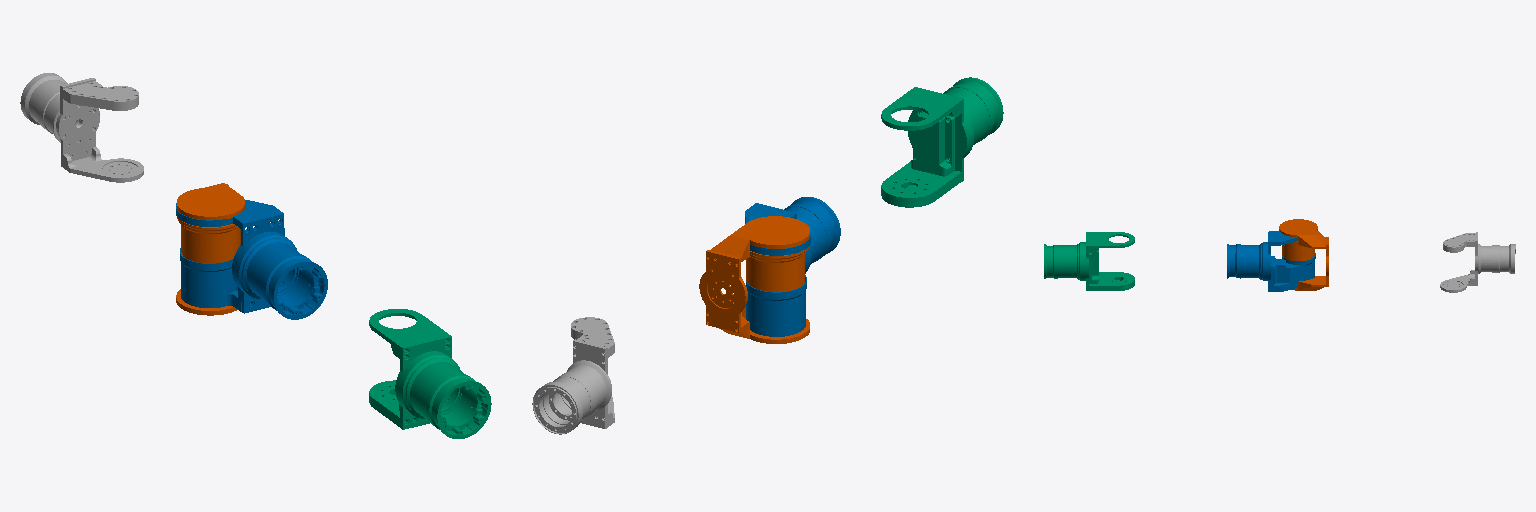
The robot description file, URDF, robot "dymaflight":
<?xml version="1.0" ?>
<robot name="dymaflight">
    
    <link name="ground"/>
    <link name="dyma_base_link">
    </link>

    <joint name="world_rotate" type="fixed">
        <parent link="ground"/>
        <child link="dyma_base_link"/>
        <origin xyz="0 0 0" rpy="-1.5708 0 0"/>
    </joint>

    <link name="shld_yaw">
        <visual>
            <origin xyz="0 0 0" rpy="0 0 0" />
            <geometry>
               <mesh filename="package://nbv/urdf/meshes/shld_yaw.stl" scale="0.001 0.001 0.001"/>
            </geometry>
        </visual>
        <collision>
            <origin xyz="0 0 0" rpy="0 0 0" />
            <geometry>
               <mesh filename="package://nbv/urdf/meshes/shld_yaw.stl" scale="0.001 0.001 0.001"/>
            </geometry>
        </collision>
    </link>

    <joint name="joint1" type="revolute">
        <parent link="dyma_base_link" />
        <child link="shld_yaw" />
        <origin xyz="0 0 0.18161" rpy="0 0 0" />
        <axis xyz="0 0 1" />
        <limit effort="300" velocity="0.25" lower="-3.14159" upper="3.14159" />
    </joint>

    <link name="shld_ptch">
        <visual>
            <origin xyz="0 0 0" rpy="0 0 0" />
            <geometry>
               <mesh filename="package://nbv/urdf/meshes/shld_ptch.stl" scale="0.001 0.001 0.001"/>
            </geometry>
        </visual>
        <collision>
            <origin xyz="0 0 0" rpy="0 0 0" />
            <geometry>
               <mesh filename="package://nbv/urdf/meshes/shld_ptch.stl" scale="0.001 0.001 0.001"/>
            </geometry>
        </collision>
    </link>

    <joint name="joint2" type="revolute">
        <parent link="shld_yaw" />
        <child link="shld_ptch" />

        <origin xyz="0 0 0" rpy="-1.5708 0 3.14159 " />
        <axis xyz="0 0 1" />
        <limit effort="300" velocity="0.25" lower="-3.14159" upper="3.14159" />
    </joint>

    <link name="shld_roll">
        <visual>
            <origin xyz="0 0 0" rpy="0 0 0" />
            <geometry>
               <mesh filename="package://nbv/urdf/meshes/shld_roll.stl" scale="0.001 0.001 0.001"/>
            </geometry>
        </visual>
        <collision>
            <origin xyz="0 0 0" rpy="0 0 0" />
            <geometry>
               <mesh filename="package://nbv/urdf/meshes/shld_roll.stl" scale="0.001 0.001 0.001"/>
            </geometry>
        </collision>
    </link>

    <joint name="joint3" type="revolute">
        <parent link="shld_ptch" />
        <child link="shld_roll" />
        <origin xyz="0 -0.430022 0" rpy="1.5708 0 0" />
        <axis xyz="0 0 1" />
        <limit effort="300" velocity="0.25" lower="-3.14159" upper="3.14159" />
    </joint>

    <link name="elbw_ptch">
        <visual>
            <origin xyz="0 0 0" rpy="0 0 0" />
            <geometry>
               <mesh filename="package://nbv/urdf/meshes/elbw_ptch.stl" scale="0.001 0.001 0.001"/>
            </geometry>
        </visual>
        <collision>
            <origin xyz="0 0 0" rpy="0 0 0" />
            <geometry>
               <mesh filename="package://nbv/urdf/meshes/elbw_ptch.stl" scale="0.001 0.001 0.001"/>
            </geometry>
        </collision>
    </link>

    <joint name="joint4" type="revolute">
        <parent link="shld_roll" />
        <child link="elbw_ptch" />
        <origin xyz="0.041402 0 0" rpy="-1.5708 -3.14159 0" />
        <axis xyz="0 0 1" />
        <limit effort="300" velocity="0.25" lower="-3.14159" upper="3.14159" />
    </joint>

    <link name="wrst_roll">
        <visual>
            <origin xyz="0 0 0" rpy="0 0 0" />
            <geometry>
               <mesh filename="package://nbv/urdf/meshes/wrst_roll.stl" scale="0.001 0.001 0.001"/>
            </geometry>
        </visual>
        <collision>
            <origin xyz="0 0 0" rpy="0 0 0" />
            <geometry>
               <mesh filename="package://nbv/urdf/meshes/wrst_roll.stl" scale="0.001 0.001 0.001"/>
            </geometry>
        </collision>
    </link>

    <joint name="joint5" type="revolute">
        <parent link="elbw_ptch" />
        <child link="wrst_roll" />
        <origin xyz="0.041402 0.37084 0" rpy="-1.5708 0 0" />
        <axis xyz="0 0 1" />
        <limit effort="300" velocity="0.25" lower="-3.14159" upper="3.14159" />
    </joint>

    <link name="wrst_ptch">
        <visual>
            <origin xyz="0 0 0" rpy="0 0 0" />
            <geometry>
               <mesh filename="package://nbv/urdf/meshes/wrst_ptch.stl" scale="0.001 0.001 0.001"/>
            </geometry>
        </visual>
        <collision>
            <origin xyz="0 0 0" rpy="0 0 0" />
            <geometry>
               <mesh filename="package://nbv/urdf/meshes/wrst_ptch.stl" scale="0.001 0.001 0.001"/>
            </geometry>
        </collision>
    </link>

    <joint name="joint6" type="revolute">
        <parent link="wrst_roll" />
        <child link="wrst_ptch" />
        <origin xyz="0.033274 -0.007366 0" rpy="-1.5708 0 3.14159" />
        <axis xyz="0 0 1" />
        <limit effort="300" velocity="0.25" lower="-3.14159" upper="3.14159" />
    </joint>

    <link name="tool_roll">
        <visual>
            <origin xyz="0 0 0" rpy="0 0 0" />
            <geometry>
               <mesh filename="package://nbv/urdf/meshes/tool_roll.stl" scale="0.001 0.001 0.001"/>
            </geometry>
        </visual>
        <collision>
            <origin xyz="0 0 0" rpy="0 0 0" />
            <geometry>
               <mesh filename="package://nbv/urdf/meshes/tool_roll.stl" scale="0.001 0.001 0.001"/>
            </geometry>
        </collision>
    </link>

    <joint name="joint7" type="revolute">
        <parent link="wrst_ptch" />
        <child link="tool_roll" />
        <origin xyz="0.033274 0 0" rpy="1.5708 0 0" />
        <axis xyz="0 0 1" />
        <limit effort="300" velocity="0.25" lower="-3.14159" upper="3.14159" />
    </joint>

</robot>

--- What the picture shows (computed from the rendered views, not written in the file) ---
The picture shows the robot from 3 angles, left to right: view 1: azimuth 30°, elevation 25°; view 2: azimuth 150°, elevation 25°; view 3: azimuth 270°, elevation 25°; orthographic projection.
Model dymaflight with 9 links and 8 joints (7 revolute, 1 fixed), rooted at ground, posed all joints at 0.
Visible links, largest first — view 1: shld_roll, shld_yaw, wrst_ptch, elbw_ptch; view 2: shld_yaw, elbw_ptch, wrst_ptch, shld_roll; view 3: shld_yaw, shld_roll, wrst_ptch, elbw_ptch.
Link boxes in pixels (x1=…): shld_roll: x1=176, y1=200, x2=327, y2=319; shld_yaw: x1=369, y1=309, x2=491, y2=438; wrst_ptch: x1=20, y1=73, x2=143, y2=182; elbw_ptch: x1=176, y1=183, x2=244, y2=315; shld_yaw: x1=881, y1=77, x2=1003, y2=207; elbw_ptch: x1=699, y1=216, x2=809, y2=343; wrst_ptch: x1=532, y1=317, x2=614, y2=434; shld_roll: x1=745, y1=197, x2=840, y2=336; shld_yaw: x1=1044, y1=232, x2=1134, y2=290; shld_roll: x1=1227, y1=231, x2=1315, y2=291; wrst_ptch: x1=1440, y1=232, x2=1515, y2=292; elbw_ptch: x1=1279, y1=219, x2=1328, y2=290.
Size in the robot's own frame: 0.1532 by 1.13 by 0.1464 metres.
Meshes: 7 distinct files referenced, 4 mesh visuals loaded (4 binary STL); not drawn: 3 (reference not matched to a file when rendering).